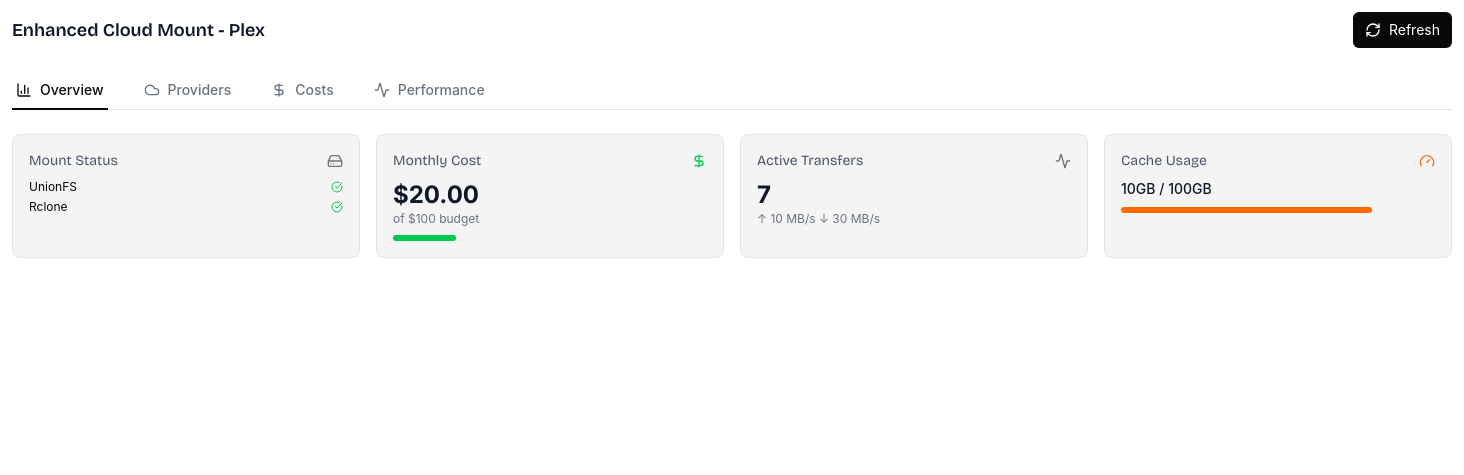
it: EnhancedMountManager › computes the correct cost figures on the Costs tab
This screenshot has width=1464, height=475.
Expected: the heading "Enhanced Cloud Mount - Plex" is shown, left=12, top=16, right=265, bottom=44
Click the button "Costs" at (303, 91), box left=267, top=72, right=338, bottom=110
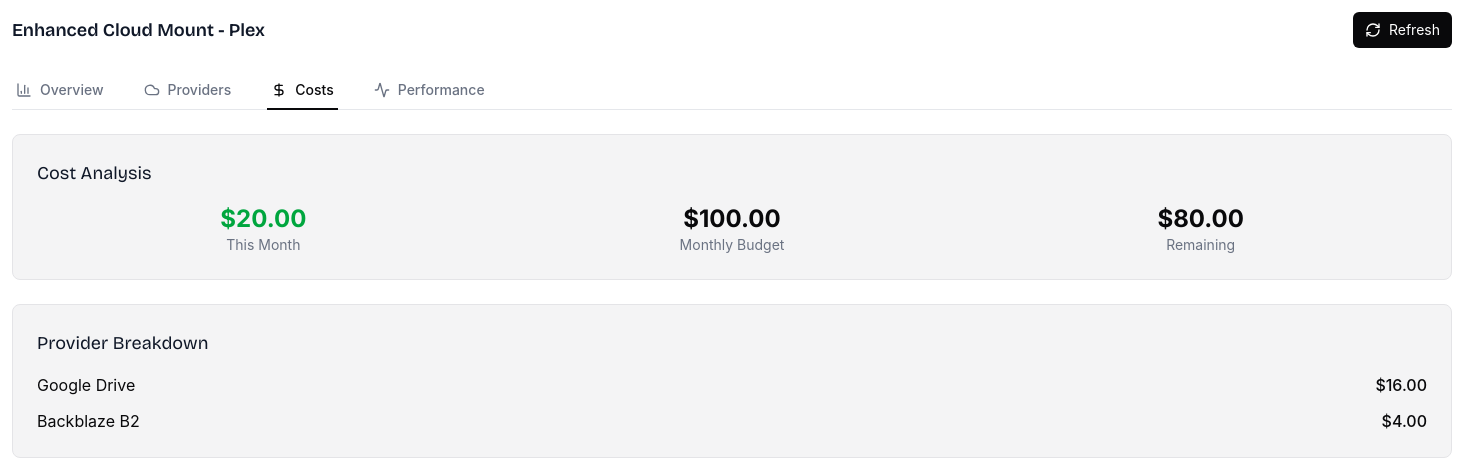
Result: the heading "Cost Analysis" is shown at left=37, top=162, right=152, bottom=184
Result: the text "$100.00" is shown at left=683, top=204, right=781, bottom=233
Result: the text "$80.00" is shown at left=1157, top=204, right=1244, bottom=233
